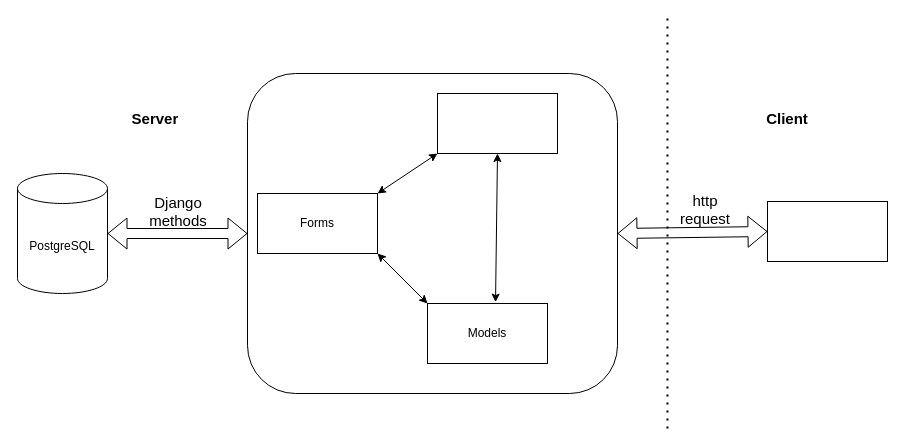
This 905x447 diagram has some shape labels left out. The shapes that lost their labels are listed below. From the top down, each one's box as (x1, y1, x2, y2) in pixels, then its label:
(436, 92, 558, 154): VIews
(766, 200, 888, 262): Templates
